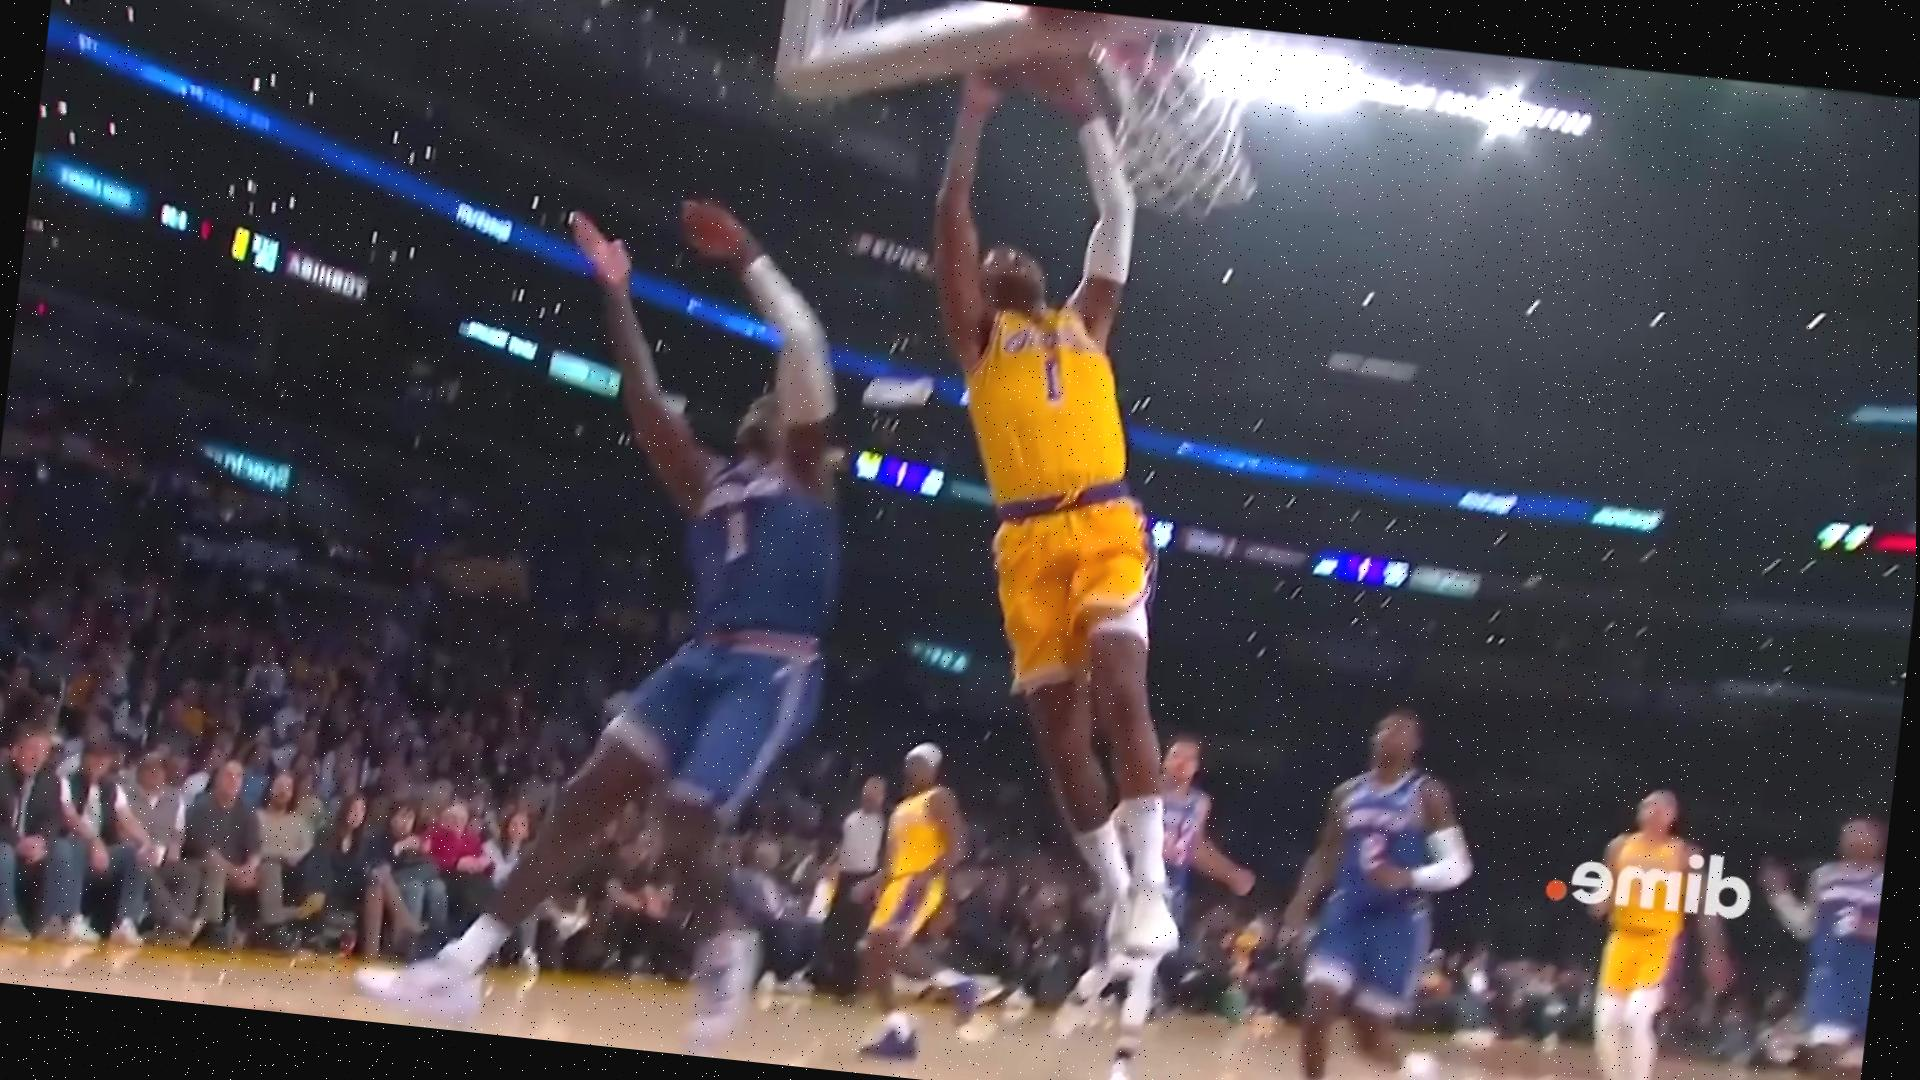no_foul: (377, 67, 1371, 1080)
